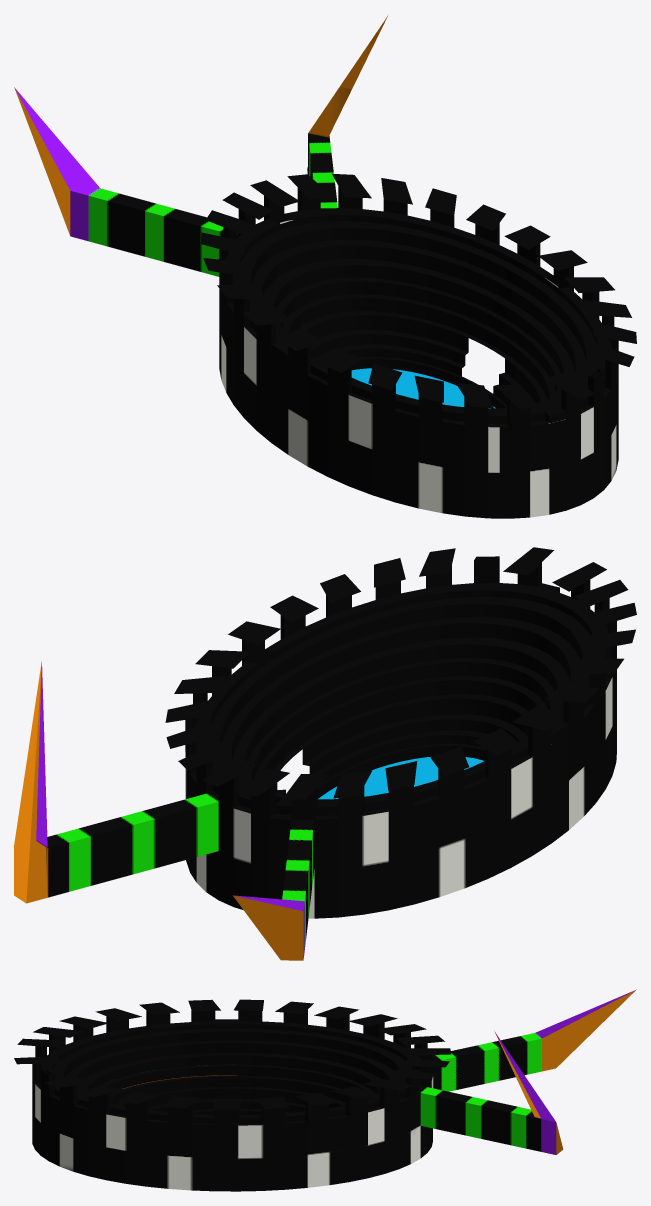
The model's file is stadium .fbx.
3 views of the same model, one above another, from view 1: azimuth 30°, elevation 25°; view 2: azimuth 150°, elevation 25°; view 3: azimuth 270°, elevation 25° (orthographic). The views are drawn at different scales.
Parts seen in each view (by area): view 1: Cylinder; view 2: Cylinder; view 3: Cylinder.
Boxes of the visible parts, x1=… form: Cylinder: x1=14, y1=16, x2=636, y2=518; Cylinder: x1=14, y1=547, x2=636, y2=960; Cylinder: x1=14, y1=989, x2=636, y2=1191.
Bounding box in the file's own units: 7814 × 5719 × 18675.
